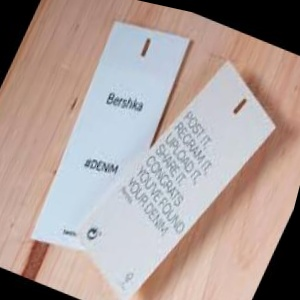bershka: (93, 41, 217, 149)
